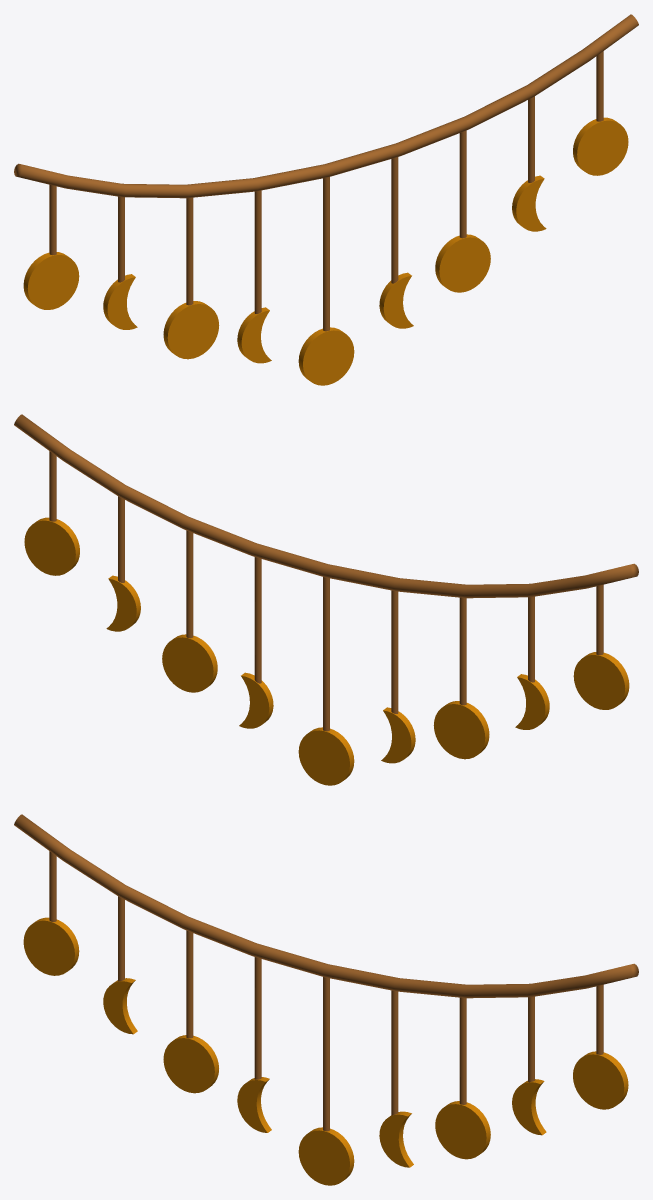
File: Decoration.fbx
3 views of the same model, one above another, from view 1: azimuth 30°, elevation 25°; view 2: azimuth 150°, elevation 25°; view 3: azimuth 330°, elevation 25° (orthographic).
Visible parts, largest first — view 1: Decoration, Decoration.005, Decoration.007, Decoration.003, Decoration.001, Decoration.009, Decoration.006, Decoration.004, Decoration.008, Decoration.002; view 2: Decoration, Decoration.005, Decoration.007, Decoration.003, Decoration.001, Decoration.009, Decoration.006, Decoration.004, Decoration.008, Decoration.002; view 3: Decoration, Decoration.005, Decoration.007, Decoration.003, Decoration.009, Decoration.001, Decoration.006, Decoration.004, Decoration.008, Decoration.002.
Part boxes in pixels (left/top/right/bottom): Decoration: left=14, top=14, right=638, bottom=198; Decoration.005: left=298, top=177, right=354, bottom=385; Decoration.007: left=435, top=130, right=490, bottom=292; Decoration.003: left=163, top=197, right=219, bottom=359; Decoration.001: left=23, top=184, right=79, bottom=309; Decoration.009: left=573, top=51, right=628, bottom=175; Decoration.006: left=379, top=157, right=413, bottom=328; Decoration.004: left=237, top=190, right=271, bottom=363; Decoration.008: left=512, top=96, right=546, bottom=231; Decoration.002: left=103, top=196, right=137, bottom=329; Decoration: left=14, top=414, right=638, bottom=598; Decoration.005: left=298, top=577, right=354, bottom=785; Decoration.007: left=162, top=530, right=217, bottom=692; Decoration.003: left=433, top=597, right=489, bottom=759; Decoration.001: left=573, top=584, right=629, bottom=709; Decoration.009: left=24, top=451, right=79, bottom=575; Decoration.006: left=239, top=557, right=273, bottom=728; Decoration.004: left=381, top=590, right=415, bottom=763; Decoration.008: left=106, top=496, right=140, bottom=631; Decoration.002: left=515, top=596, right=549, bottom=729; Decoration: left=14, top=814, right=638, bottom=998; Decoration.005: left=298, top=977, right=354, bottom=1185; Decoration.007: left=435, top=997, right=490, bottom=1159; Decoration.003: left=163, top=930, right=218, bottom=1093; Decoration.009: left=573, top=984, right=628, bottom=1109; Decoration.001: left=23, top=851, right=79, bottom=975; Decoration.006: left=379, top=990, right=413, bottom=1167; Decoration.004: left=237, top=957, right=271, bottom=1132; Decoration.008: left=512, top=996, right=546, bottom=1135; Decoration.002: left=103, top=896, right=137, bottom=1034.
Bounding box in the file's own units: 629 × 284 × 12.
